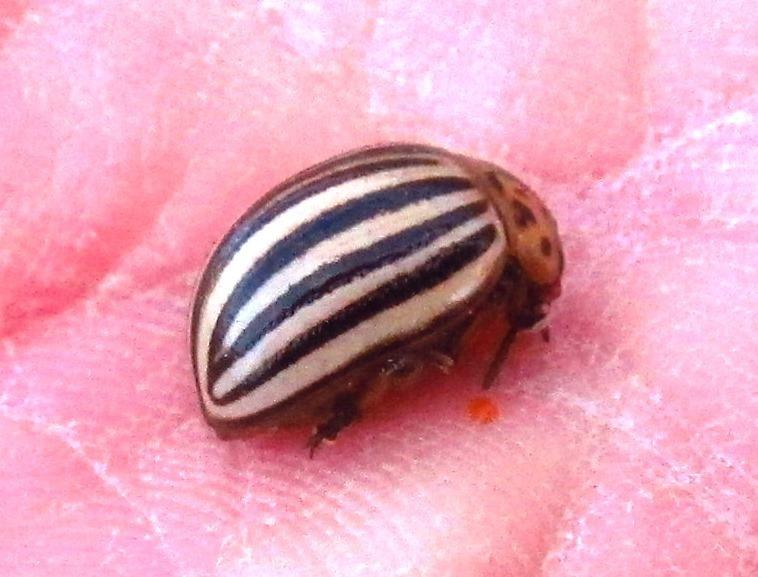potato_beetle: (91, 82, 609, 493)
